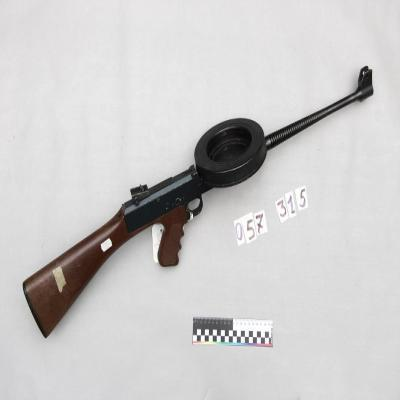weapon: (22, 68, 374, 339)
